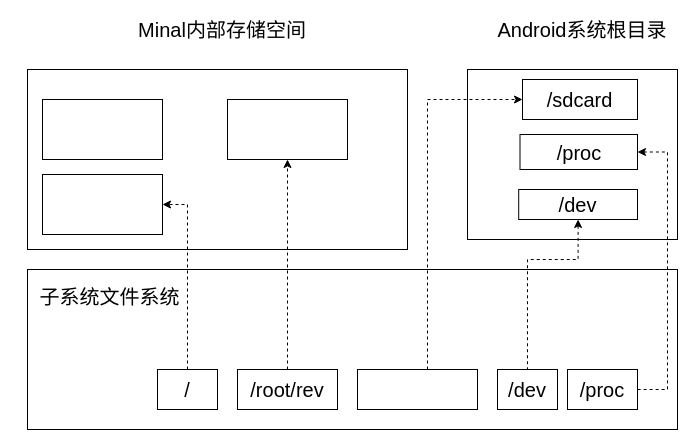
This 695x447 diagram has some shape labels left out. Here are the shapes that lost their labels. From the top down, the centre of each, then its label:
At (x=102, y=129): "proot".
At (x=287, y=129): "receive_file".
At (x=102, y=204): "sub_system".
At (x=417, y=389): "/root/sdcard".
